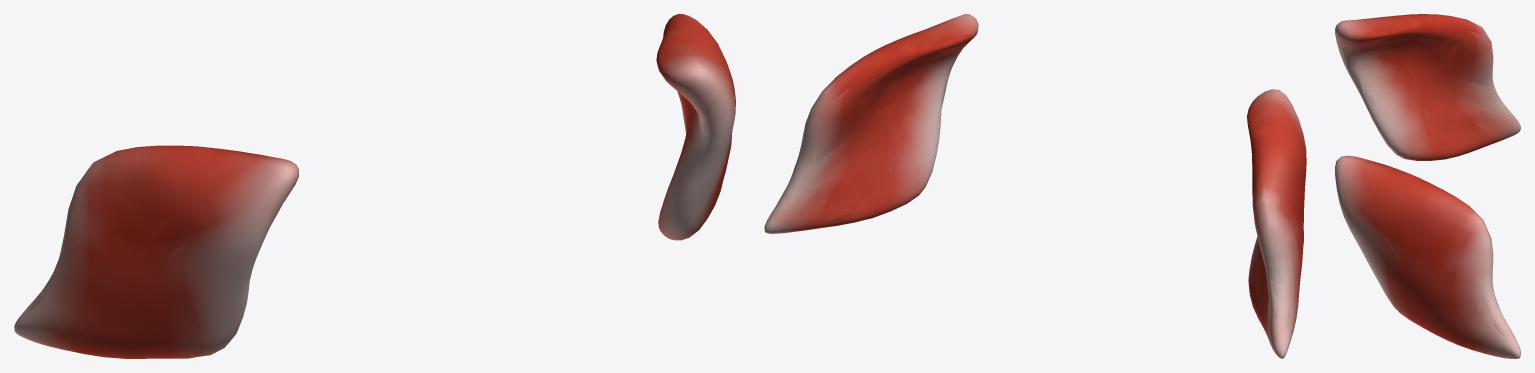
File: Obliquus capitis cranialis.fbx
The picture shows the model from 3 angles, left to right: view 1: azimuth 30°, elevation 25°; view 2: azimuth 150°, elevation 25°; view 3: azimuth 270°, elevation 25°; orthographic projection. The views are drawn at different scales.
Parts seen in each view (by area): view 1: Obliquus capitis cranialis, Obliquus capitis cranialis low; view 2: Obliquus capitis cranialis, Obliquus capitis cranialis low; view 3: Obliquus capitis cranialis, Obliquus capitis cranialis low.
Part boxes in pixels (x1,y1,x2,y2): Obliquus capitis cranialis: (14, 14, 735, 358); Obliquus capitis cranialis low: (28, 47, 709, 328); Obliquus capitis cranialis: (764, 14, 1306, 358); Obliquus capitis cranialis low: (777, 29, 1304, 333); Obliquus capitis cranialis: (1335, 14, 1520, 358); Obliquus capitis cranialis low: (1340, 20, 1507, 339).
Size of the model in its own units: 14.87 by 4.83 by 5.1.
